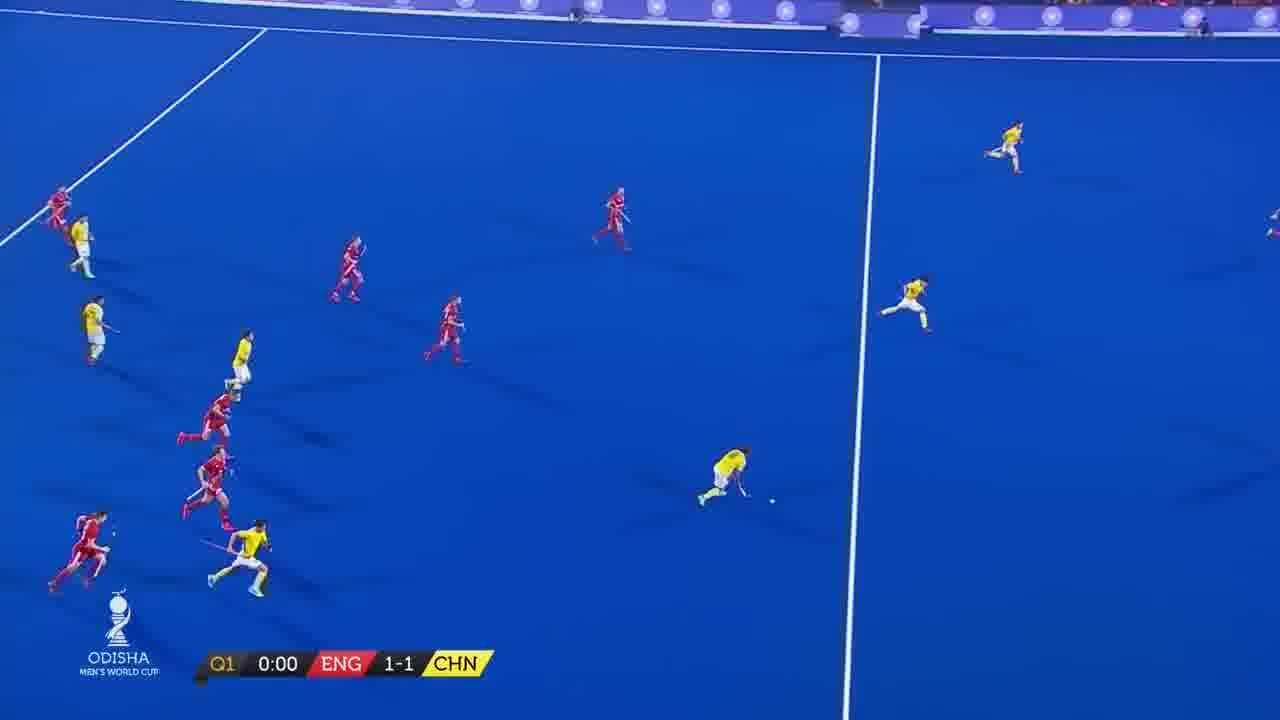ball: (765, 496, 778, 507)
